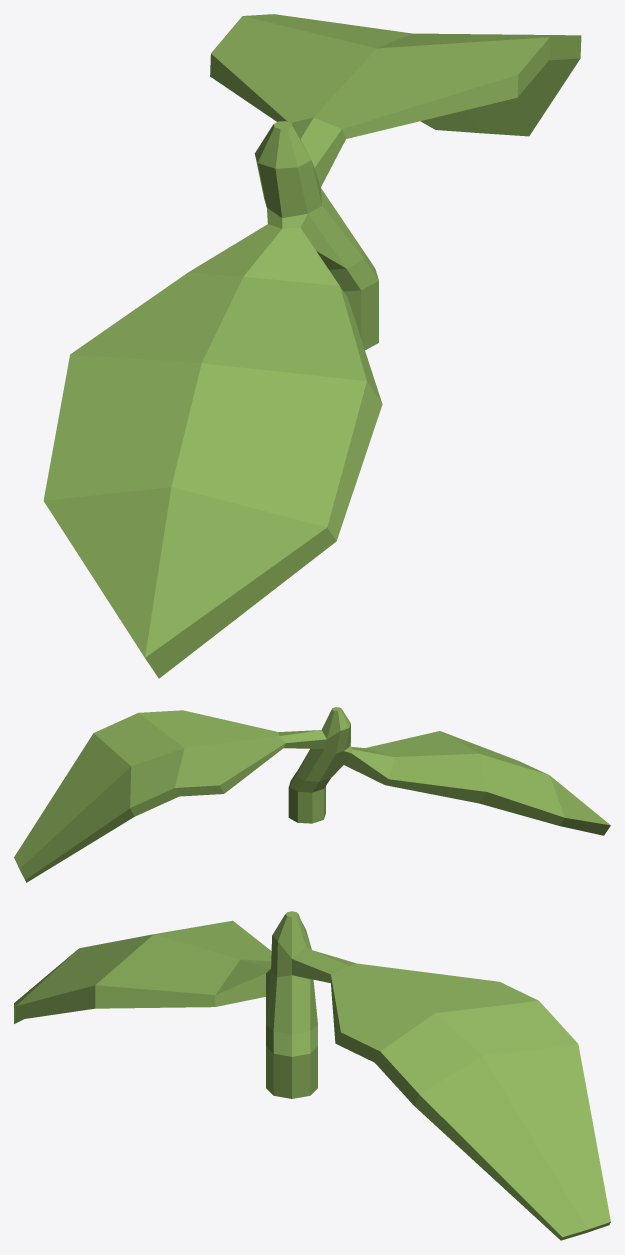
Rendered from Hat_Sprout.fbx.
3 views of the same model, one above another, from view 1: azimuth 30°, elevation 25°; view 2: azimuth 150°, elevation 25°; view 3: azimuth 270°, elevation 25° (orthographic). The views are drawn at different scales.
Parts seen in each view (by area): view 1: Sprout2; view 2: Sprout2; view 3: Sprout2.
Part boxes in pixels (box(x1,y1,x2,y2)): Sprout2: box(43, 14, 581, 678); Sprout2: box(14, 707, 610, 882); Sprout2: box(14, 911, 610, 1240).
Size of the model in its own units: 86.07 by 33.49 by 82.72.
